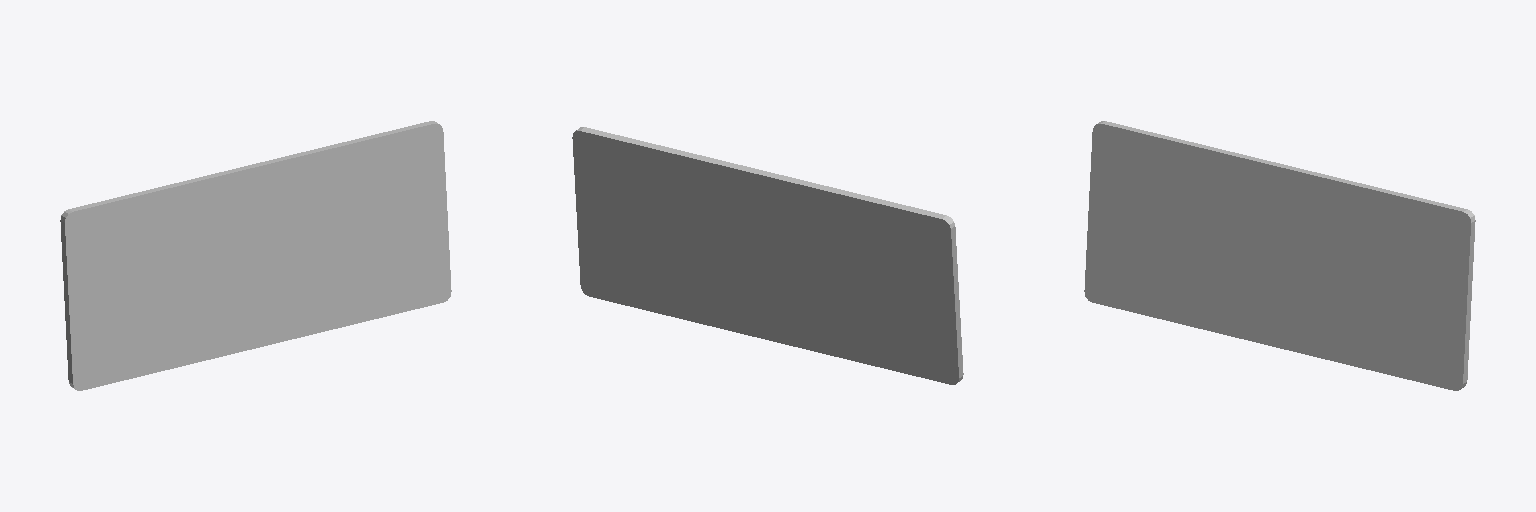
The model's file is banner.obj.
3 renders of one model, left to right at view 1: azimuth 30°, elevation 25°; view 2: azimuth 150°, elevation 25°; view 3: azimuth 330°, elevation 25°, orthographic.
Parts seen in each view (by area): view 1: Signsplus_2; view 2: Signsplus_2; view 3: Signsplus_2.
Boxes of the visible parts, x1,y1,x2,y2 form: Signsplus_2: [60, 121, 451, 390]; Signsplus_2: [572, 127, 963, 384]; Signsplus_2: [1084, 121, 1475, 390].
Bounding box in the file's own units: 6.59 × 2.88 × 0.4079.